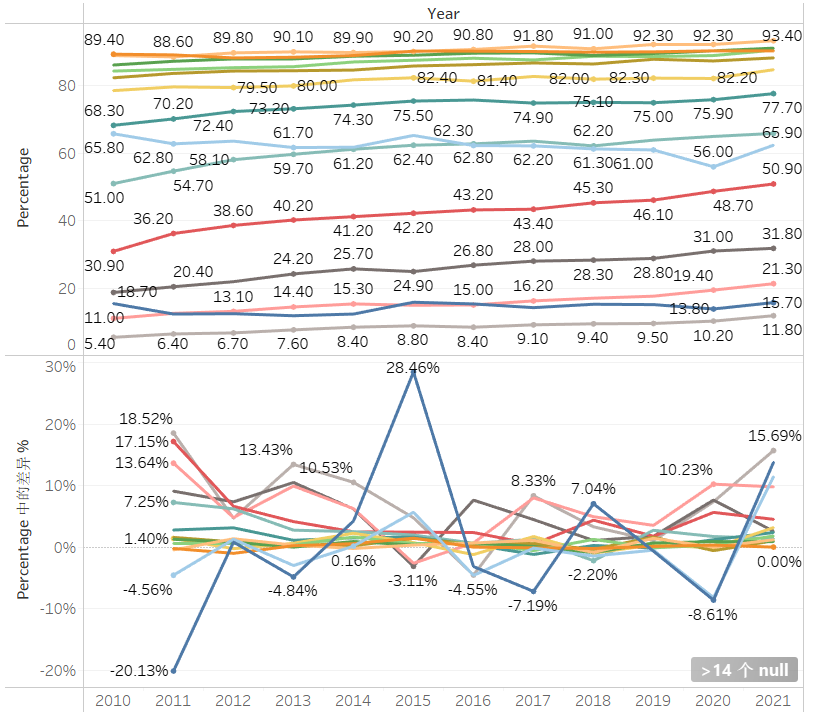

This screenshot's page, from the dashboard's own definition file:
{"tool":"tableau","page":{"name":"仪表板 2","canvas":[1000,800],"ordinal":0},"visuals":[{"type":"worksheet","title":"工作表 1","mark":"Automatic","rows":["转置字段值","转置字段值"],"cols":["Calculation_1475210355353161736"],"box":[8,8,824,486]},{"type":"legend","title":"工作表 1","param":"[federated.1z0z4z61ravsvc1eakrx91tar6gu].[none:Age (Years) / Sex:nk]","box":[832,8,160,303]},{"type":"legend","title":"工作表 1","param":"[federated.1z0z4z61ravsvc1eakrx91tar6gu].[usr:Calculation_1475210355345399814:ok","box":[832,311,160,89]},{"type":"legend","title":"工作表 2","param":"[federated.1z0z4z61ravsvc1eakrx91tar6gu].[usr:计算 2:qk]","box":[832,400,160,73]},{"type":"worksheet","title":"工作表 2","mark":"Bar","rows":["转置字段值"],"cols":["Calculation_1475210355353161736"],"box":[8,494,824,298]}]}

Visuals, with their boxes on the page's 1000x800 design canvas (x1, y1, x2, y2). These are canvas units, not pixel positions in the 839x719 screenshot, which may show the page scaled, cropped or inside an application window:
"工作表 1" worksheet: BBox(8, 8, 832, 494)
"工作表 1" legend: BBox(832, 8, 992, 311)
"工作表 1" legend: BBox(832, 311, 992, 400)
"工作表 2" legend: BBox(832, 400, 992, 473)
"工作表 2" worksheet (Bar marks): BBox(8, 494, 832, 792)
